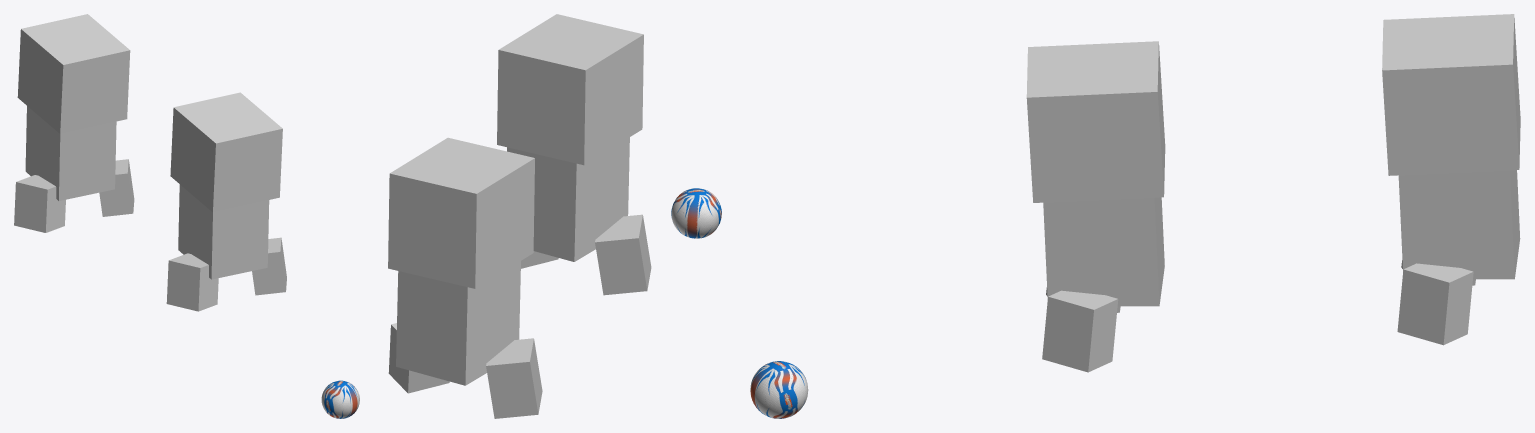
The model's file is DummyShoot.glb.
The picture shows the model from 3 angles, left to right: view 1: azimuth 30°, elevation 25°; view 2: azimuth 150°, elevation 25°; view 3: azimuth 270°, elevation 25°; orthographic projection. The views are drawn at different scales.
Parts seen in each view (by area): view 1: col_hair (×2), col_body_head (×2), col_hand_right (×2), col_hand_left (×2), DummyBall; view 2: col_hair (×2), col_body_head (×2), col_hand_right (×2), DummyBall, col_hand_left (×2); view 3: col_hair (×2), col_body_head (×2), col_hand_left (×2), DummyBall.
Part boxes in pixels (x1,y1,x2,y2): col_hair (×2): (17,14,282,212); col_body_head (×2): (25,106,269,279); col_hand_right (×2): (14,175,218,311); col_hand_left (×2): (99,159,286,295); DummyBall: (321,380,359,418); col_hair (×2): (388,14,643,288); col_body_head (×2): (396,137,629,385); col_hand_right (×2): (486,214,651,418); DummyBall: (671,188,721,238); col_hand_left (×2): (388,251,558,393); col_hair (×2): (1026,14,1520,202); col_body_head (×2): (1043,170,1520,306); col_hand_left (×2): (1042,263,1473,372); DummyBall: (750,361,808,418).
Bounding box in the file's own units: 1.54 × 2.22 × 4.47.
Materials: 2 (1 with a texture image).
